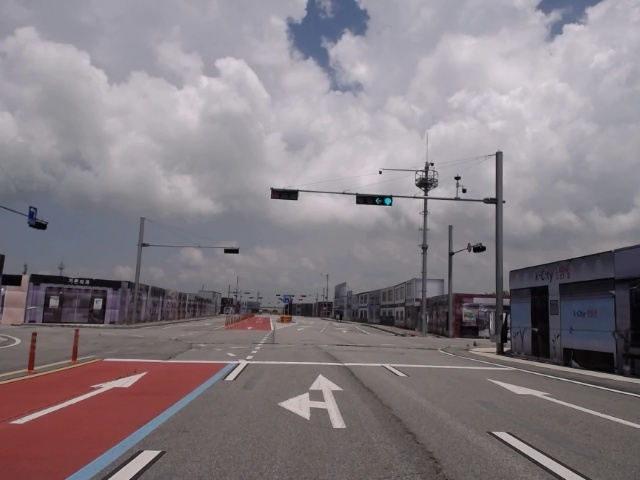all_green_4: (357, 194, 395, 206)
